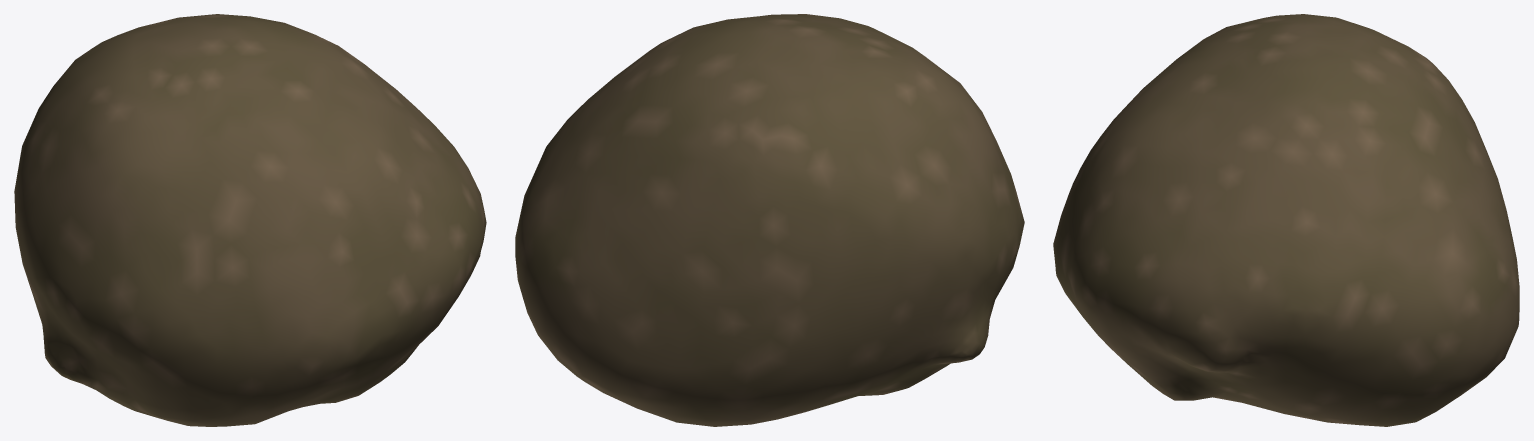
The model's file is stone.glb.
The picture shows the model from 3 angles, left to right: view 1: azimuth 30°, elevation 25°; view 2: azimuth 150°, elevation 25°; view 3: azimuth 270°, elevation 25°; orthographic projection. The views are drawn at different scales.
Parts seen in each view (by area): view 1: log; view 2: log; view 3: log.
Boxes of the visible parts, bbox=[...] form: log: bbox=[14, 14, 486, 426]; log: bbox=[515, 14, 1024, 426]; log: bbox=[1053, 14, 1519, 426].
Bounding box in the file's own units: 0.1499 × 0.1222 × 0.15.
